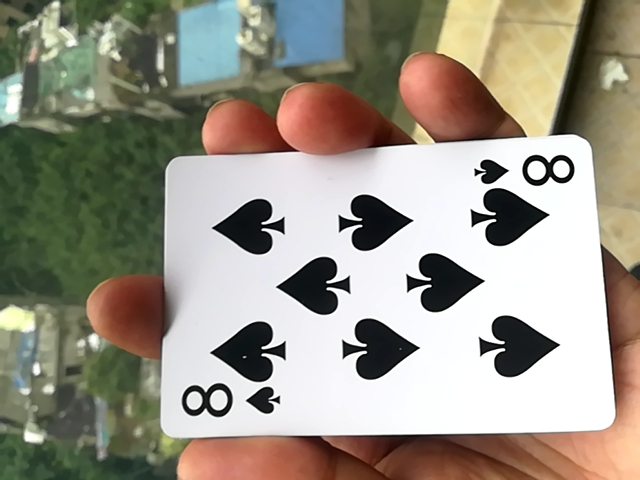ht 8: (141, 133, 602, 458)
